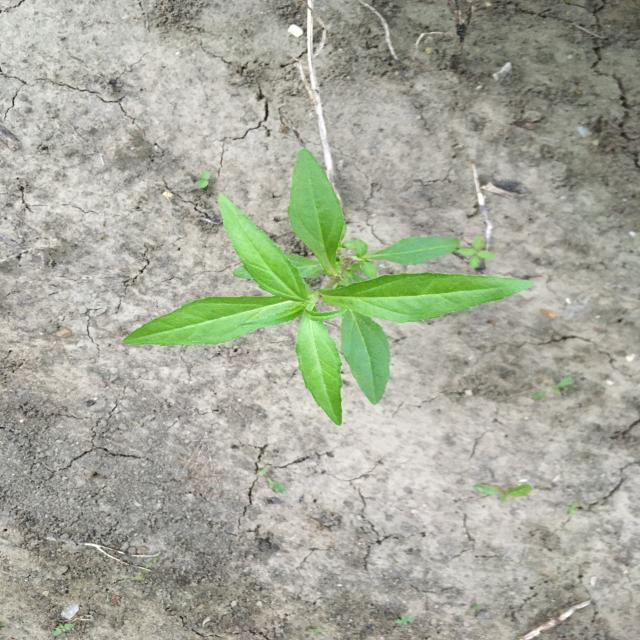Eclipta: (120, 146, 536, 428)
